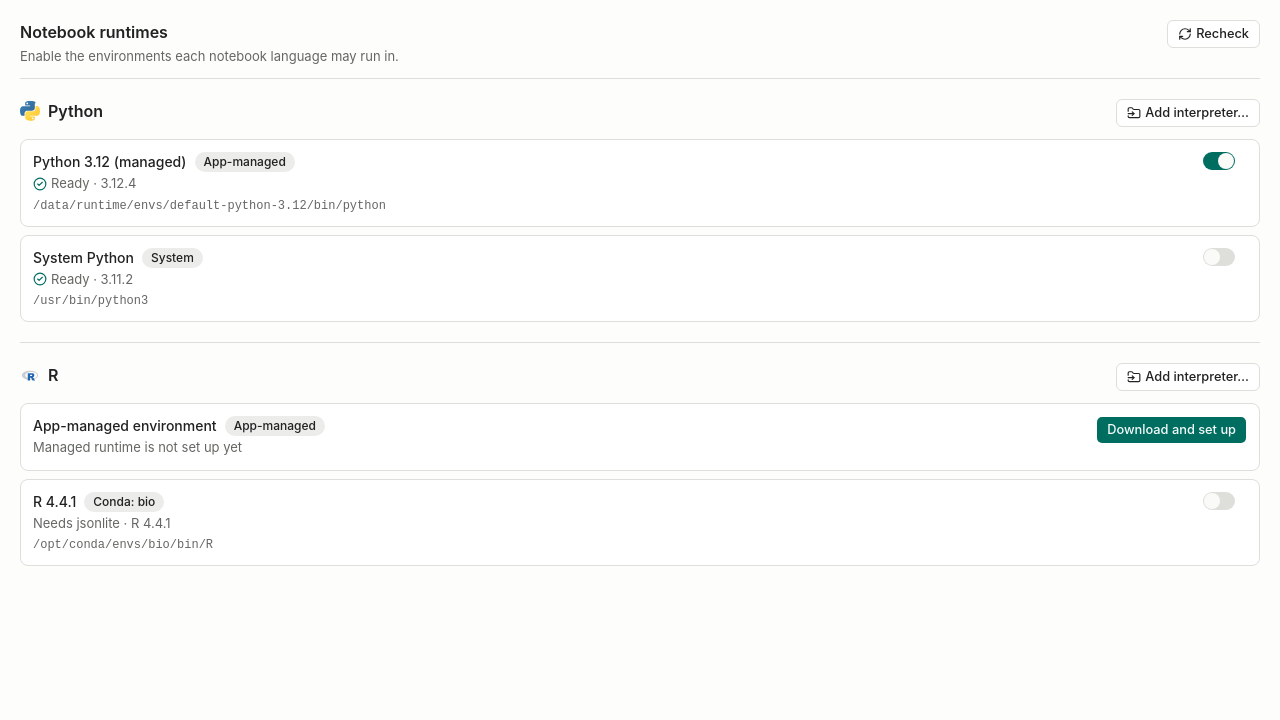
RuntimesPanel › surfaces the "cannot disable the last enabled runtime" error inline
Step 1. Click the switch named "Enable Python 3.12 (managed)" → (1219, 161), box [1203, 152, 1235, 170]
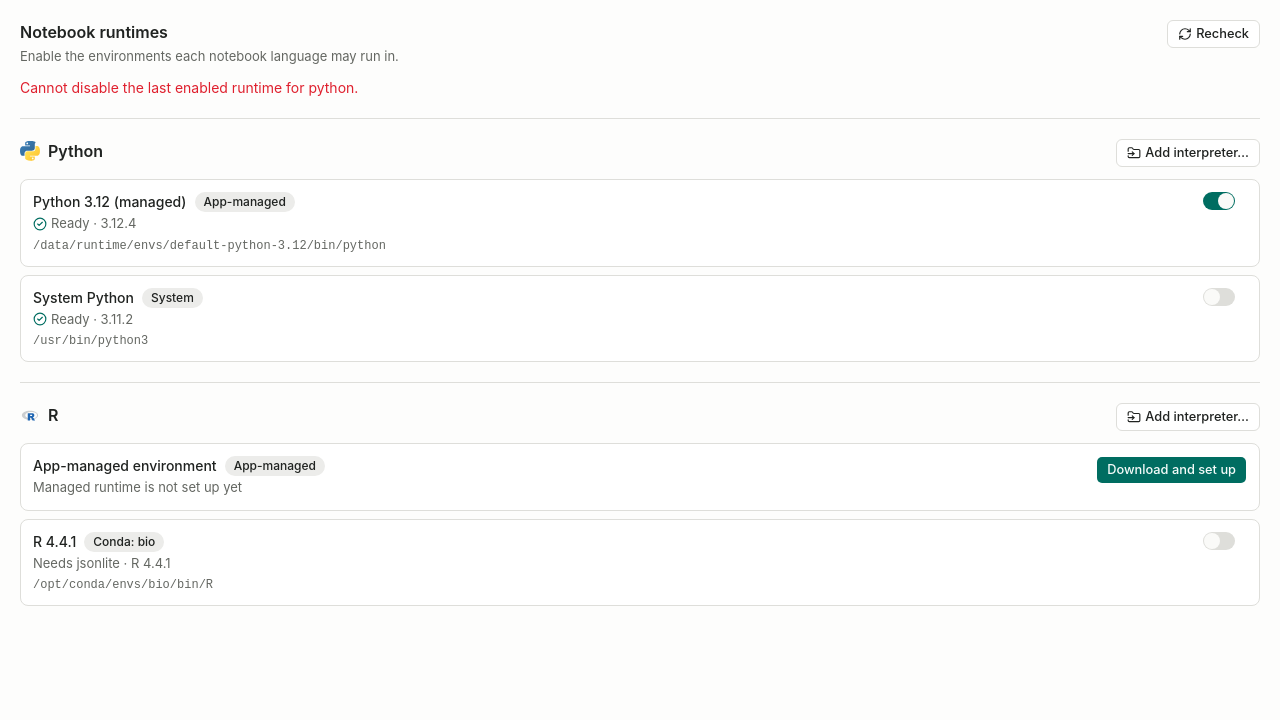
Result: the message with test id "runtimes-error" shows "Cannot disable the last enabled runtime" at [20, 79, 358, 96]
